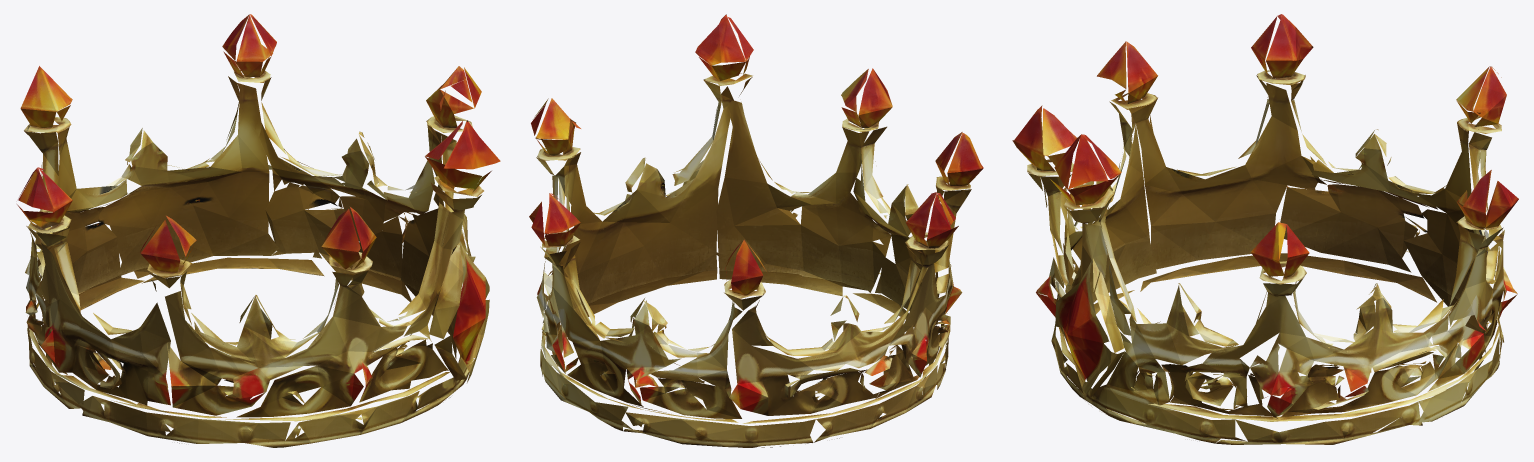
File: hat_legendary_lo.glb
3 renders of one model, left to right at view 1: azimuth 30°, elevation 25°; view 2: azimuth 150°, elevation 25°; view 3: azimuth 270°, elevation 25°, orthographic. The views are drawn at different scales.
Parts seen in each view (by area): view 1: geometry_0; view 2: geometry_0; view 3: geometry_0.
Part boxes in pixels (<box>): geometry_0: <box>17,14,500,447</box>; geometry_0: <box>529,14,983,447</box>; geometry_0: <box>1012,14,1518,444</box>.
Bounding box in the file's own units: 1 × 0.5781 × 0.9533.
1 material, 1 textured.
